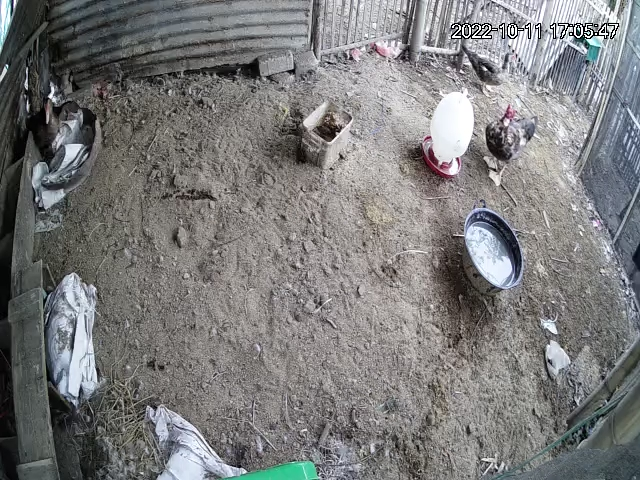Mengeram: (23, 87, 99, 179)
